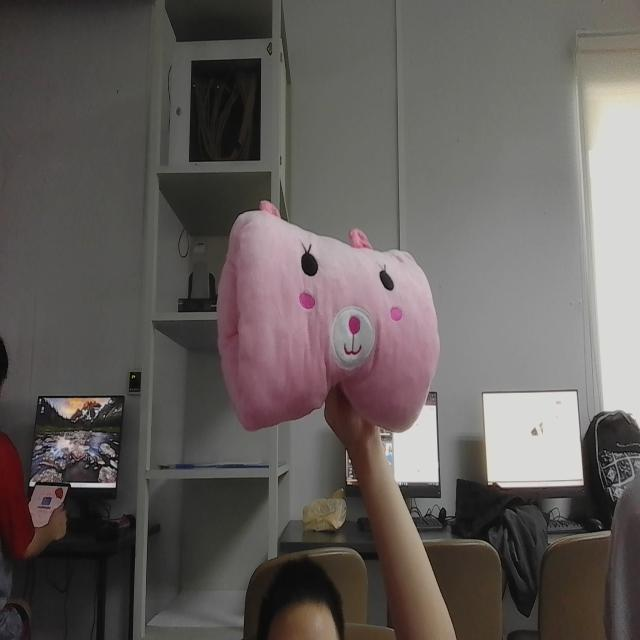pinkpillow: (214, 191, 444, 447)
